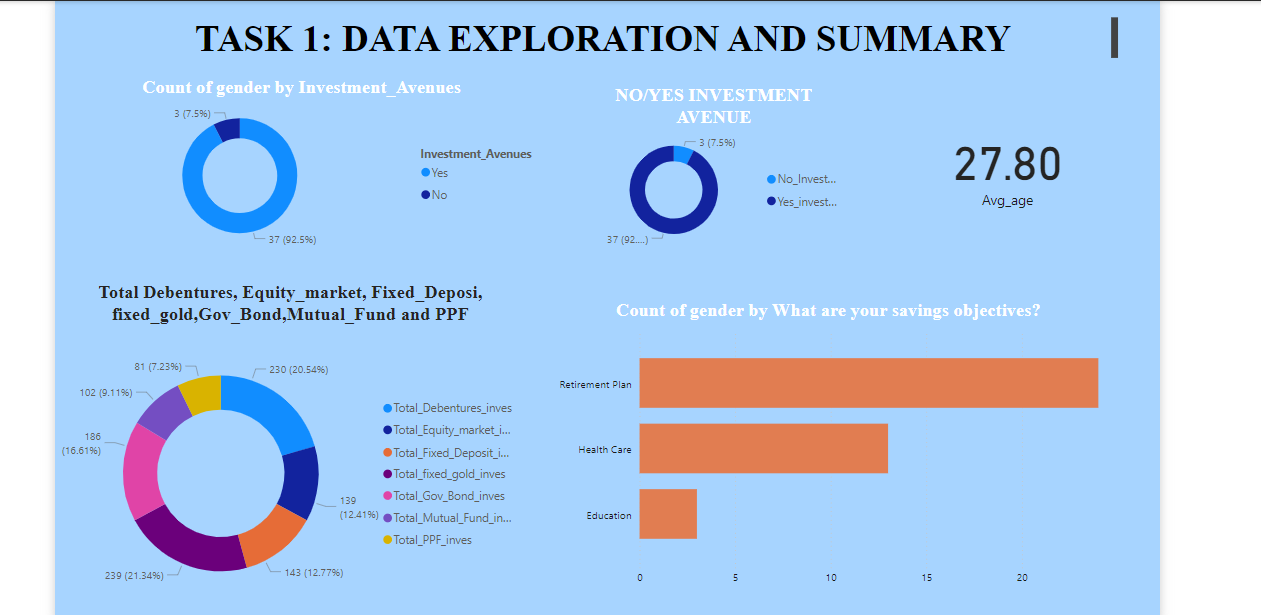

The dashboard page shown, as its layout file describes it:
{"tool":"powerbi","page":{"name":"Task 1","canvas":[1280,720],"ordinal":0},"visuals":[{"type":"card","fields":{"Values":["Data_set 2.Avg_age"]},"box":[946.8,90.6,311.5,201.7],"z":0},{"type":"textbox","box":[18.9,13.3,1216.7,57.8],"z":1000},{"type":"barChart","fields":{"Category":["Data_set 2.What are your savings objectives?"],"Y":["CountNonNull(Data_set 2.gender)"]},"box":[570.8,345.8,649.1,338.9],"z":2000},{"type":"donutChart","fields":{"Category":["Data_set 2.Investment_Avenues"],"Y":["CountNonNull(Data_set 2.gender)"]},"box":[0,87.8,570.8,204.5],"z":3000},{"type":"donutChart","title":"NO/YES INVESTMENT AVENUE","fields":{"Y":["Data_set 2.No_InvestmentAvenues","Data_set 2.Yes_investment_avenue"]},"box":[603.8,97.4,317,194.9],"z":4000},{"type":"donutChart","title":"Total Debentures, Equity_market, Fixed_Deposi, fixed_gold,Gov_Bond,Mutual_Fund and PPF","fields":{"Y":["Data_set 2.Total_Debentures_inves","Data_set 2.Total_Equity_market_inves","Data_set 2.Total_Fixed_Deposit_inves","Data_set 2.Total_fixed_gold_inves","Data_set 2.Total_Gov_Bond_inves","Data_set 2.Total_Mutual_Fund_inve","Data_set 2.Total_PPF_inves"]},"box":[0,325.2,544.8,395.2],"z":5000}]}

Visuals, with their boxes on the page's 1280x720 design canvas (x1, y1, x2, y2). These are canvas units, not pixel positions in the 1261x615 screenshot, which may show the page scaled, cropped or inside an application window:
card - Data_set 2.Avg_age: 947, 91, 1258, 292
textbox: 19, 13, 1236, 71
barChart - Data_set 2.What are your savings objectives? x CountNonNull(Data_set 2.gender): 571, 346, 1220, 685
donutChart - Data_set 2.Investment_Avenues x CountNonNull(Data_set 2.gender): 0, 88, 571, 292
"NO/YES INVESTMENT AVENUE" donutChart: 604, 97, 921, 292
"Total Debentures, Equity_market, Fixed_Deposi, fixed_gold,Gov_Bond,Mutual_Fund and PPF" donutChart: 0, 325, 545, 720
